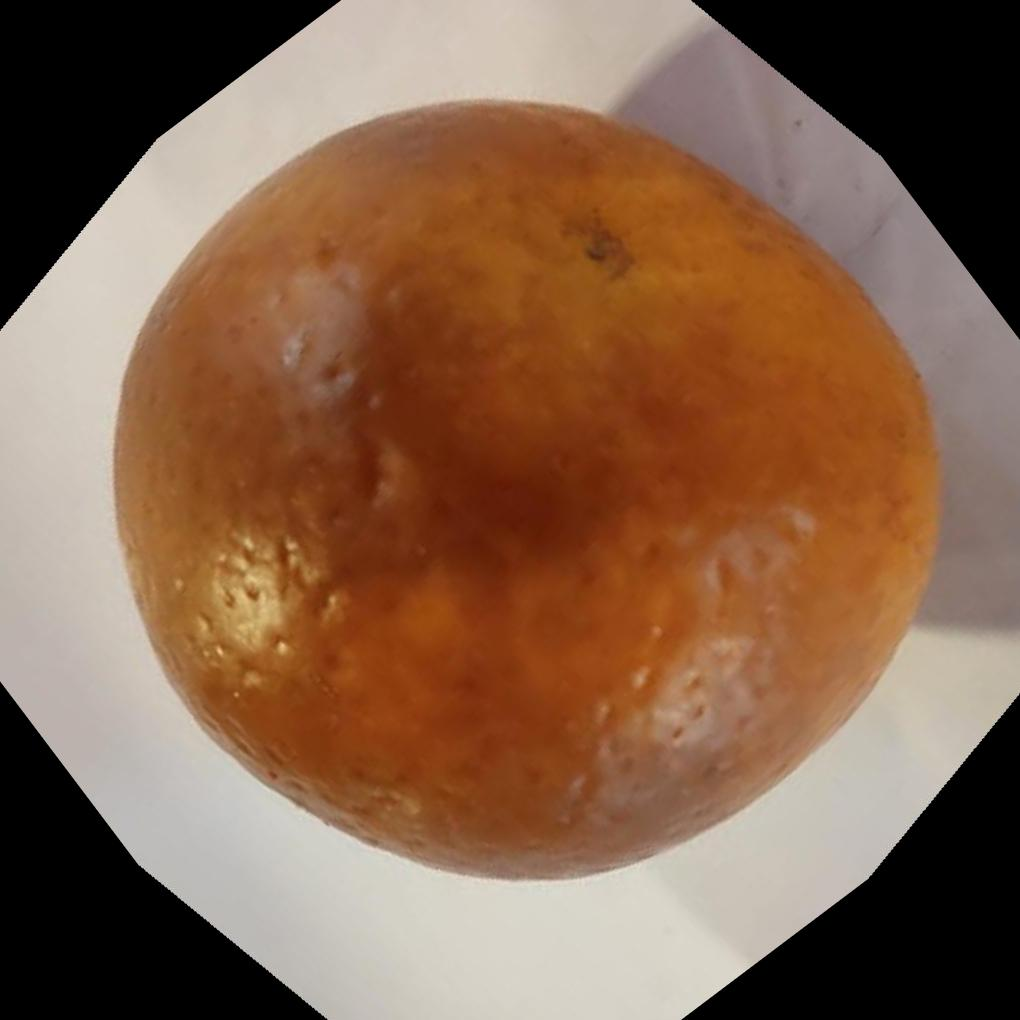FreshOrange: (112, 95, 947, 881)
